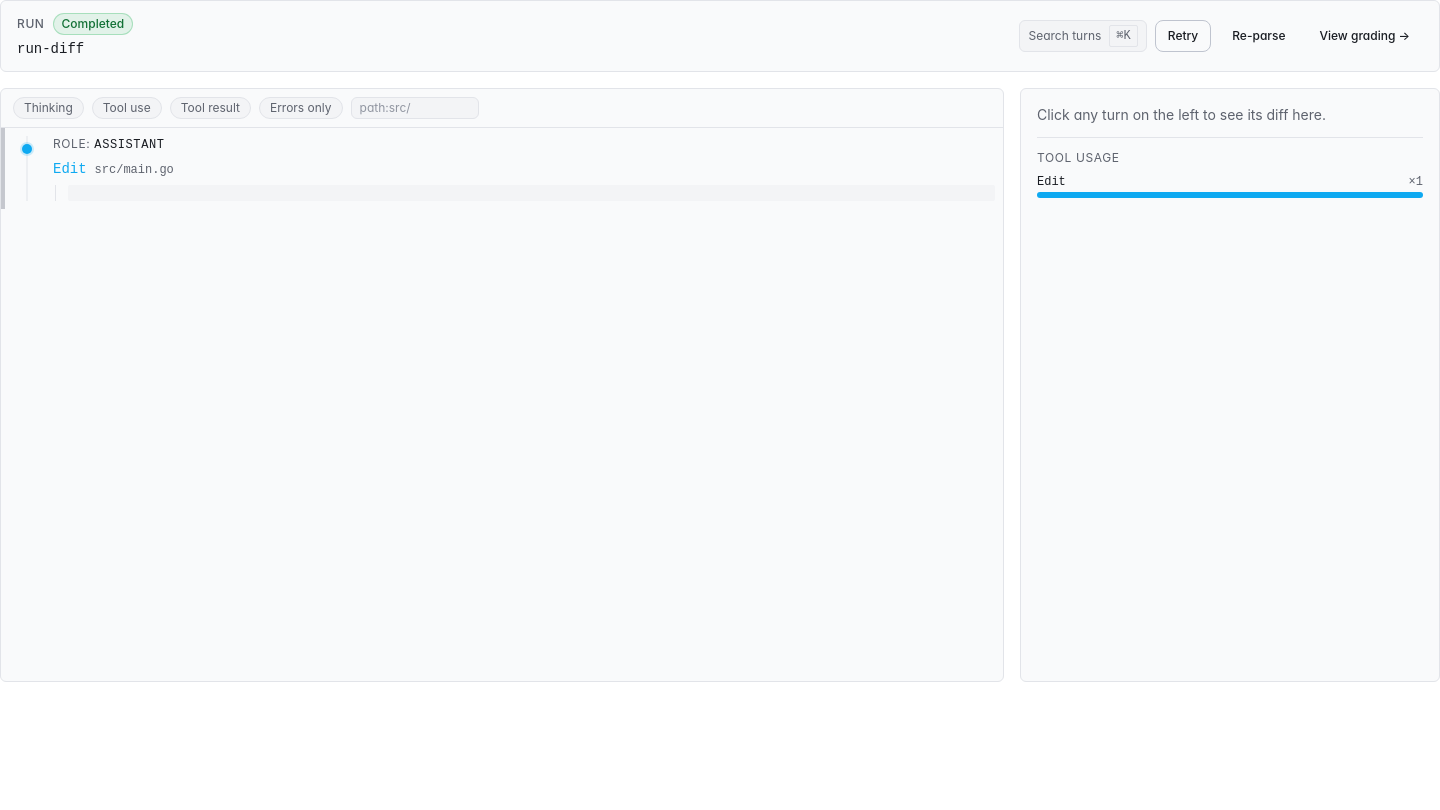
Test: RunInspectPage › focusing a turn renders its file diffs in the right pane
This screenshot has width=1440, height=810.
Expected: the text "Click any turn on the left to see its diff here." is shown, top-left (1037, 106), bottom-right (1326, 123)
Step 1. Click the button with aria-label "focus turn 0" → (74,144), box top-left (1, 128), bottom-right (1003, 209)
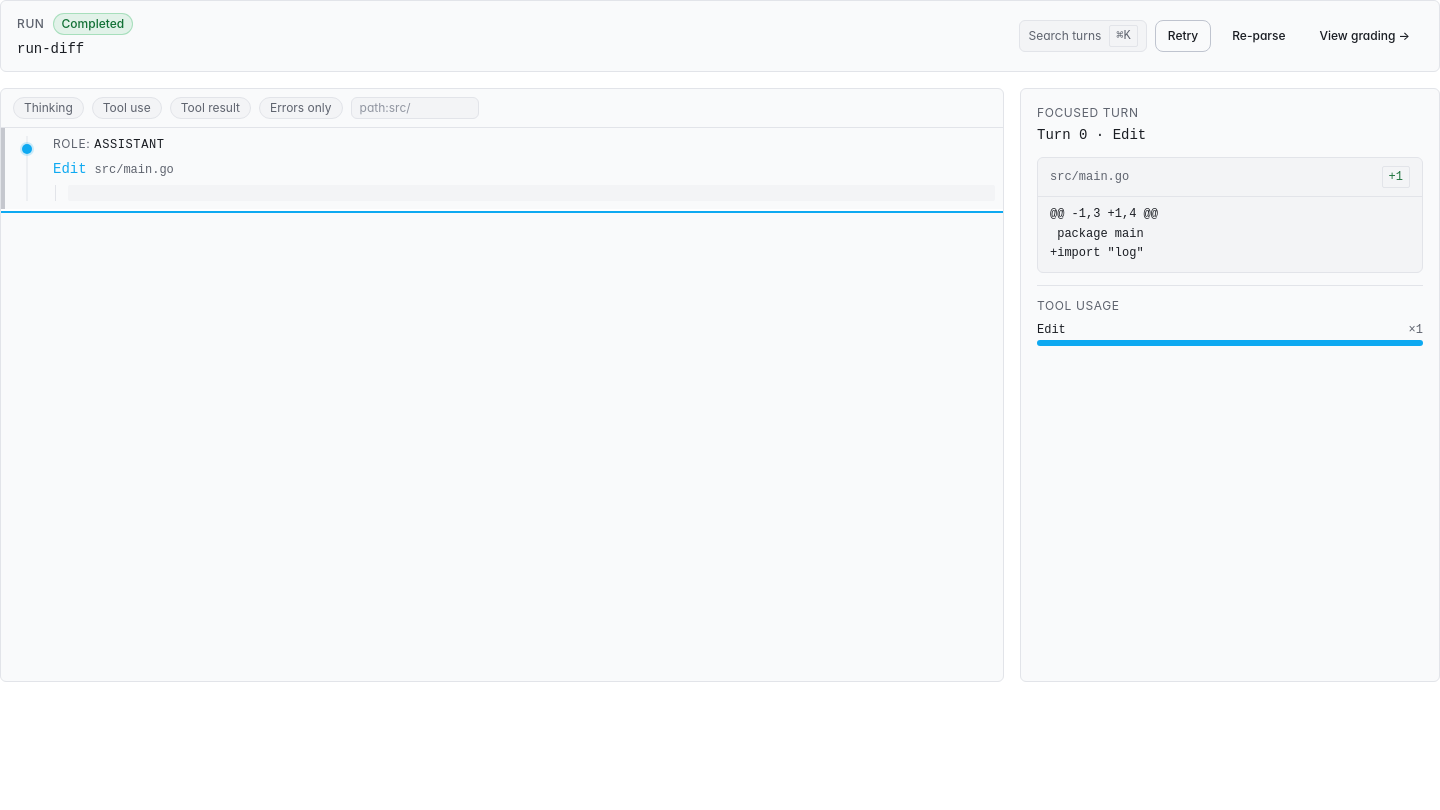
Result: the text "Focused turn" is shown at top-left (1037, 105), bottom-right (1138, 120)
Result: the text "+1" is shown at top-left (1389, 169), bottom-right (1403, 185)
